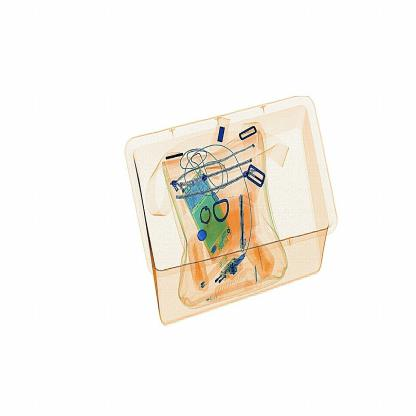knife: (236, 194, 252, 252)
